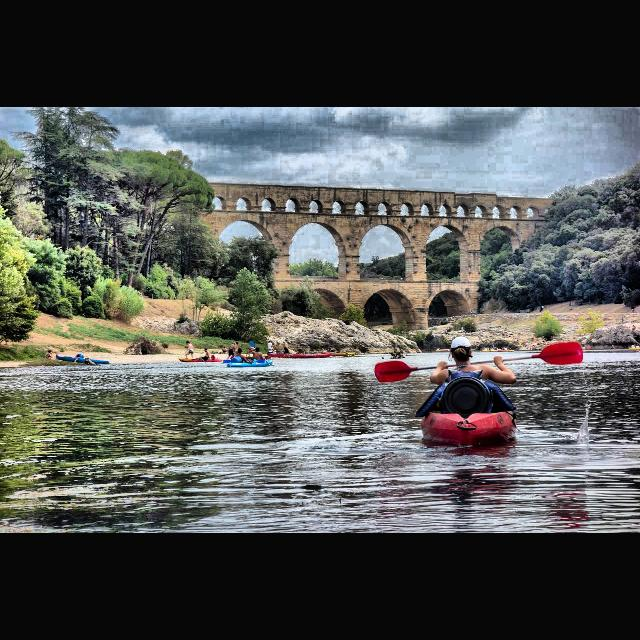kayak: (420, 408, 518, 449)
